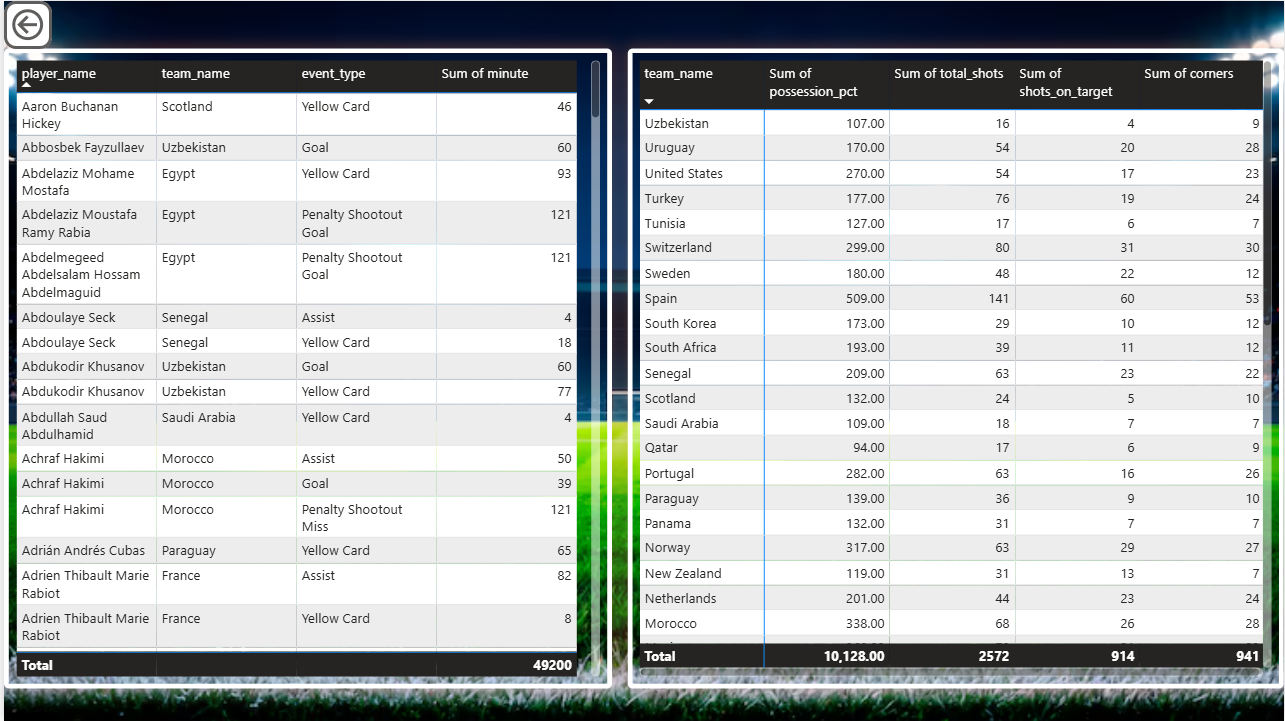

This screenshot's page, from the dashboard's own definition file:
{"tool":"powerbi","page":{"name":"Match Explorer","canvas":[1280,720],"ordinal":7},"visuals":[{"type":"tableEx","fields":{"Values":["dim_player_2026.player_name","dim_team.team_name","fact_match_events_2026.event_type","Sum(fact_match_events_2026.minute)"]},"box":[0,48,608,640],"z":0},{"type":"pivotTable","fields":{"Rows":["dim_team.team_name"],"Values":["Sum(fact_match_team_stats_2026.possession_pct)","Sum(fact_match_team_stats_2026.total_shots)","Sum(fact_match_team_stats_2026.shots_on_target)","Sum(fact_match_team_stats_2026.corners)"]},"box":[624,48,656,640],"z":1000},{"type":"actionButton","box":[0,0,48,48],"z":2000}]}

Visuals, with their boxes in screenshot pixels (x1, y1, x2, y2), scaled from the page's 1280x720 canvas onto the 1285x721 screenshot:
tableEx - dim_player_2026.player_name x dim_team.team_name: [x1=0, y1=48, x2=610, y2=689]
pivotTable - dim_team.team_name x Sum(fact_match_team_stats_2026.possession_pct): [x1=626, y1=48, x2=1284, y2=689]
actionButton: [x1=0, y1=0, x2=48, y2=48]
